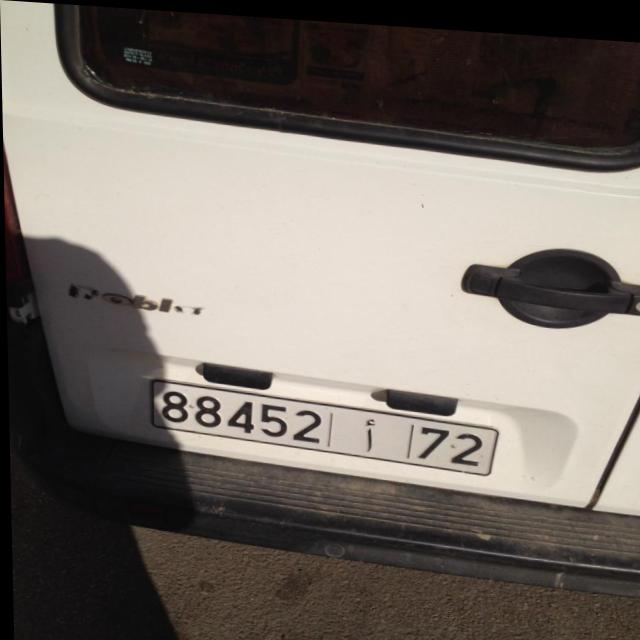License-Plate: (151, 379, 495, 468)
